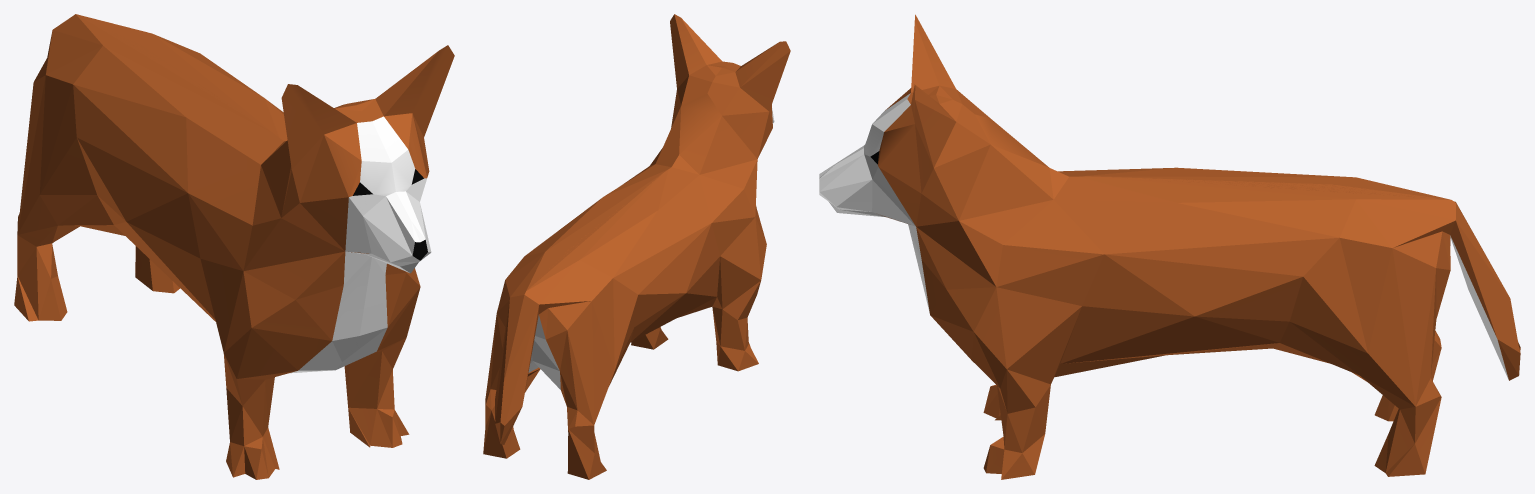
Rendered from Corgi.fbx.
3 renders of one model, left to right at view 1: azimuth 30°, elevation 25°; view 2: azimuth 150°, elevation 25°; view 3: azimuth 270°, elevation 25°, orthographic. The views are drawn at different scales.
Parts seen in each view (by area): view 1: Corgi; view 2: Corgi; view 3: Corgi.
Boxes of the visible parts, x1,y1,x2,y2 form: Corgi: [14, 14, 454, 479]; Corgi: [483, 14, 790, 479]; Corgi: [819, 14, 1520, 479].
Size of the model in its own units: 22.34 by 48.17 by 78.36.
